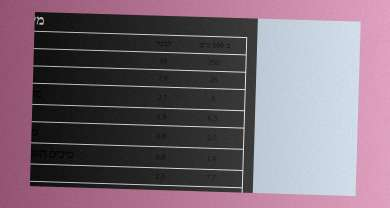carbs: (207, 113, 218, 123)
energy: (207, 57, 221, 68)
fat: (209, 74, 219, 85)
protein: (205, 173, 217, 183)
